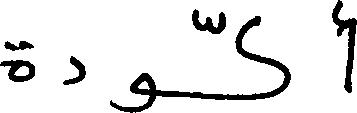X: (237, 11, 287, 104), (333, 0, 356, 97), (111, 68, 153, 112), (0, 36, 31, 86), (63, 51, 83, 89)
